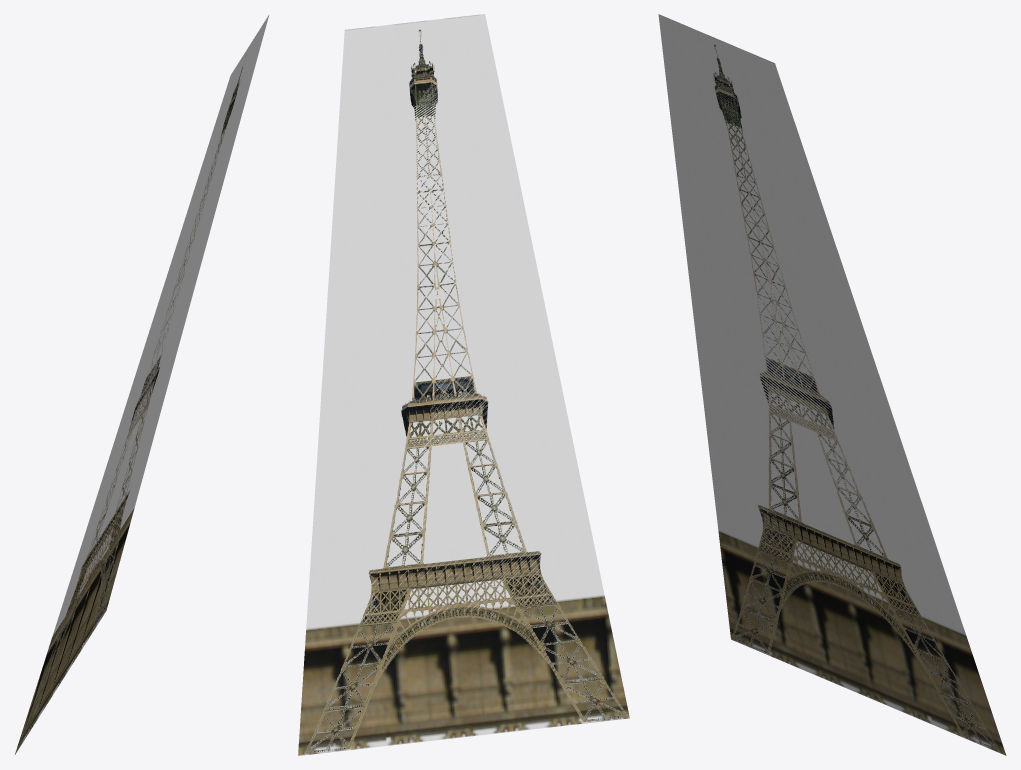
Rendered from 埃菲尔铁塔18.dae.
3 renders of one model, left to right at view 1: azimuth 30°, elevation 25°; view 2: azimuth 150°, elevation 25°; view 3: azimuth 270°, elevation 25°, orthographic. The views are drawn at different scales.
Visible parts, largest first — view 1: SketchUp; view 2: SketchUp; view 3: SketchUp.
Part boxes in pixels (bbox=[...]): SketchUp: bbox=[15, 15, 268, 754]; SketchUp: bbox=[298, 14, 629, 755]; SketchUp: bbox=[658, 14, 1006, 755].
Size of the model in its own units: 1148 by 1148 by 2631.
